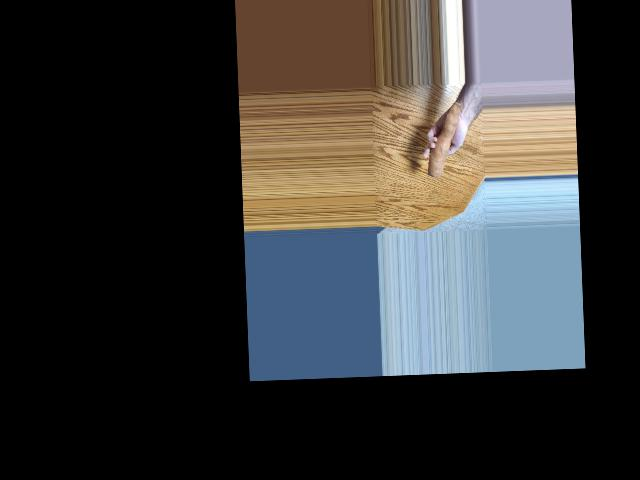sweet_potato: (430, 101, 465, 175)
